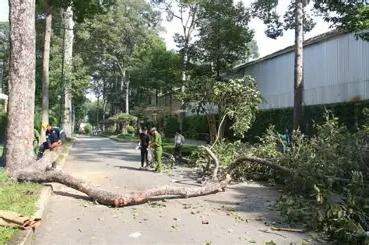ROAD_OBSTACLE: (14, 75, 364, 225)
